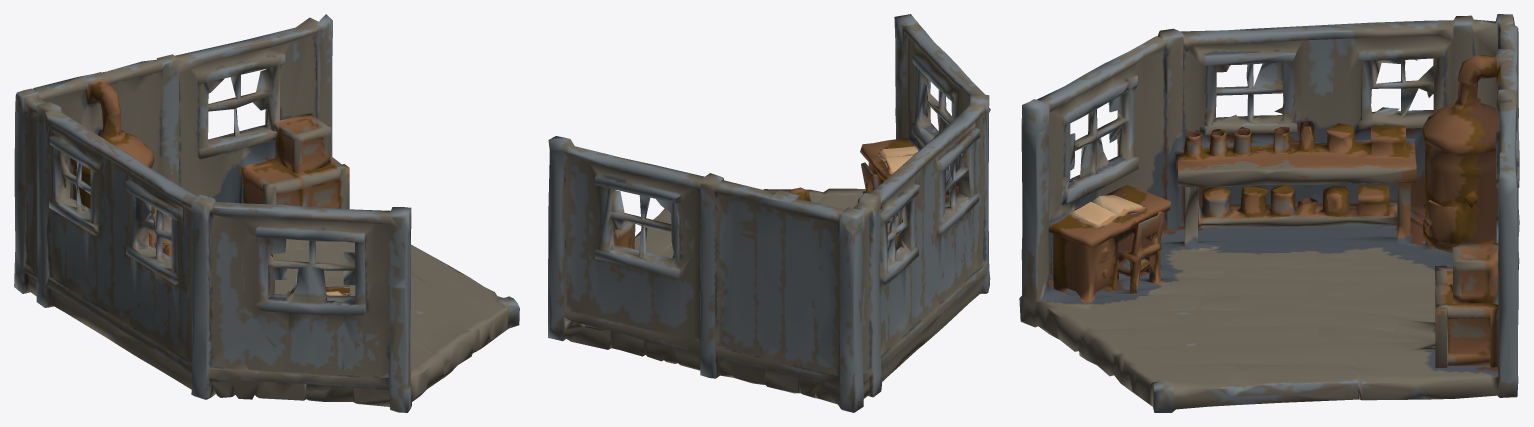
File: room-cannery.glb
The picture shows the model from 3 angles, left to right: view 1: azimuth 30°, elevation 25°; view 2: azimuth 150°, elevation 25°; view 3: azimuth 270°, elevation 25°; orthographic projection. The views are drawn at different scales.
Visible parts, largest first — view 1: tripo_node_07d4fe2f-a362-4443-863b-a1e3a223ab34; view 2: tripo_node_07d4fe2f-a362-4443-863b-a1e3a223ab34; view 3: tripo_node_07d4fe2f-a362-4443-863b-a1e3a223ab34.
Boxes of the visible parts, <box> form: tripo_node_07d4fe2f-a362-4443-863b-a1e3a223ab34: <box>14,14,519,412</box>; tripo_node_07d4fe2f-a362-4443-863b-a1e3a223ab34: <box>548,14,990,412</box>; tripo_node_07d4fe2f-a362-4443-863b-a1e3a223ab34: <box>1019,14,1519,412</box>.
Size of the model in its own units: 0.8652 by 0.487 by 1.
Materials: 1 (1 with a texture image).
